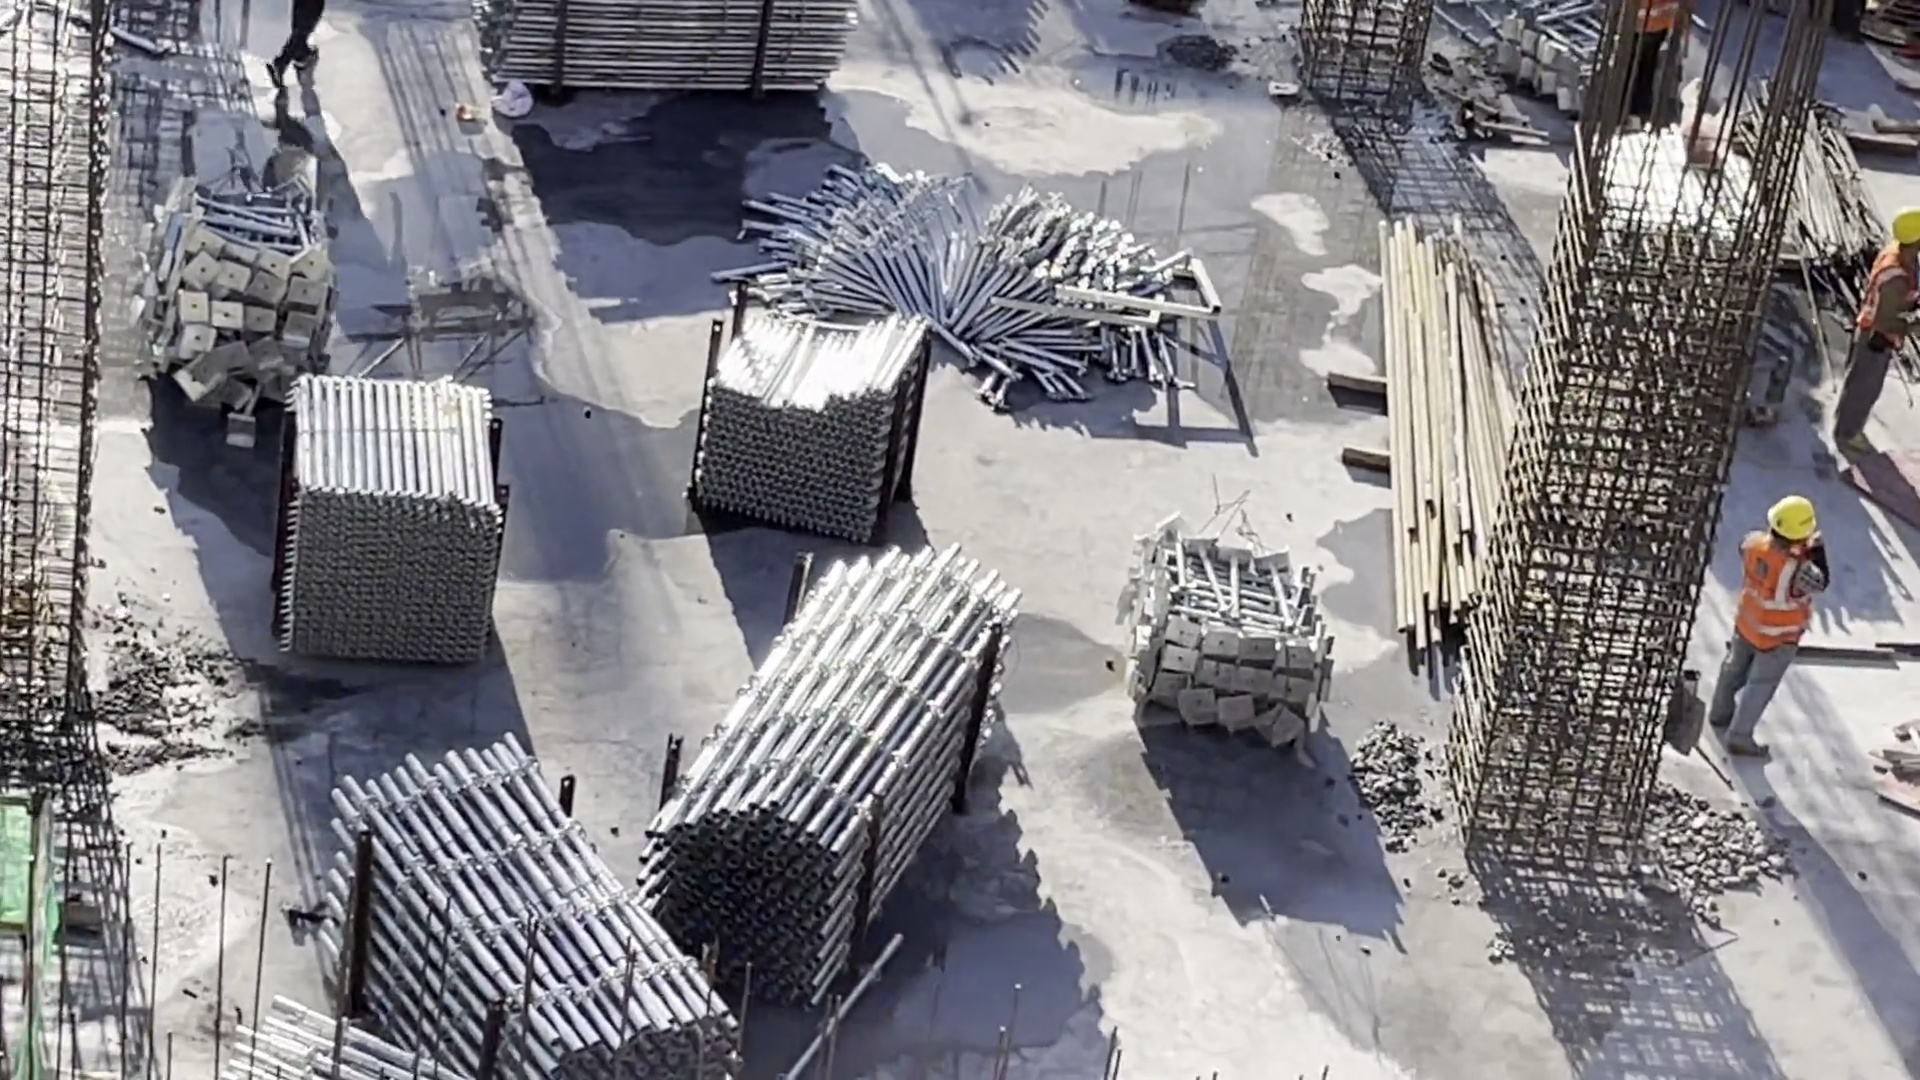helmet: (1764, 497, 1826, 530), (1895, 222, 1920, 239)
person: (1720, 491, 1824, 769), (1847, 195, 1920, 482), (275, 1, 359, 105), (1621, 1, 1684, 130)
scaffold: (650, 557, 1023, 1028), (334, 737, 732, 1080), (773, 146, 1249, 421), (676, 270, 952, 527), (288, 365, 499, 656), (1124, 512, 1359, 769), (130, 178, 337, 436), (464, 1, 877, 98), (1494, 3, 1686, 105)
vest: (1742, 526, 1814, 650), (1857, 249, 1919, 364)
